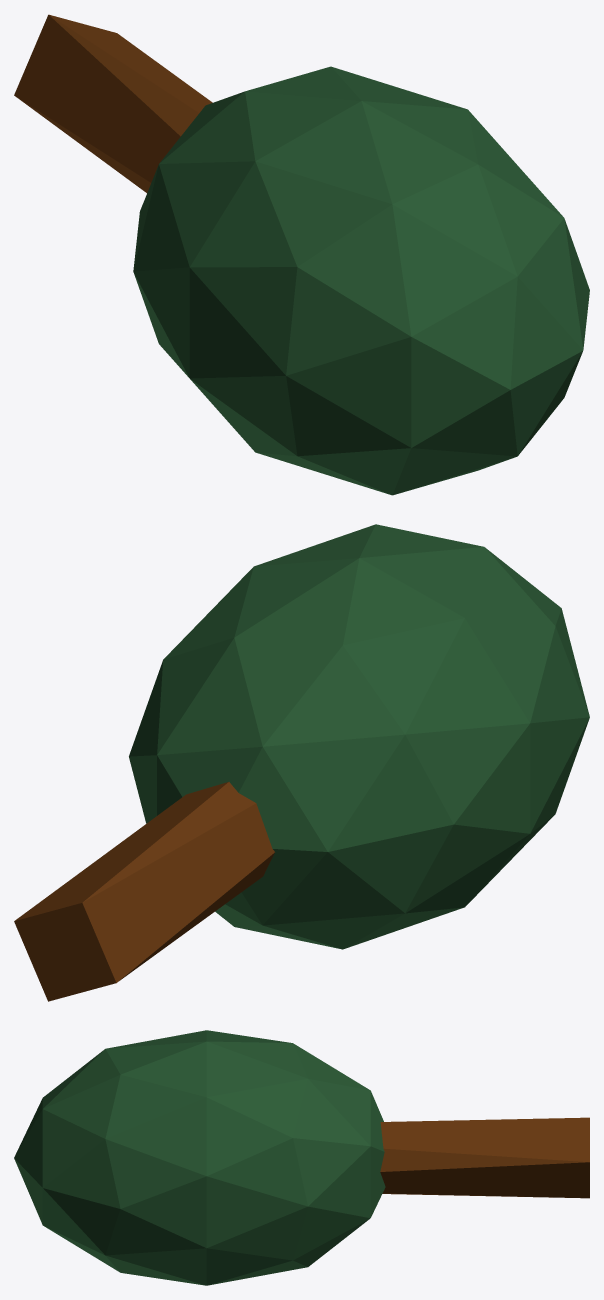
The picture shows the model from 3 angles, top to bottom: view 1: azimuth 30°, elevation 25°; view 2: azimuth 150°, elevation 25°; view 3: azimuth 270°, elevation 25°; orthographic projection. The views are drawn at different scales.
Visible parts, largest first — view 1: node (×2); view 2: node (×2); view 3: node (×2).
Boxes of the visible parts, <box> form: node (×2): <box>14,14,589,495</box>; node (×2): <box>14,524,589,1001</box>; node (×2): <box>14,1030,589,1285</box>.
Bounding box in the file's own units: 0.5 × 0.5 × 1.12.
